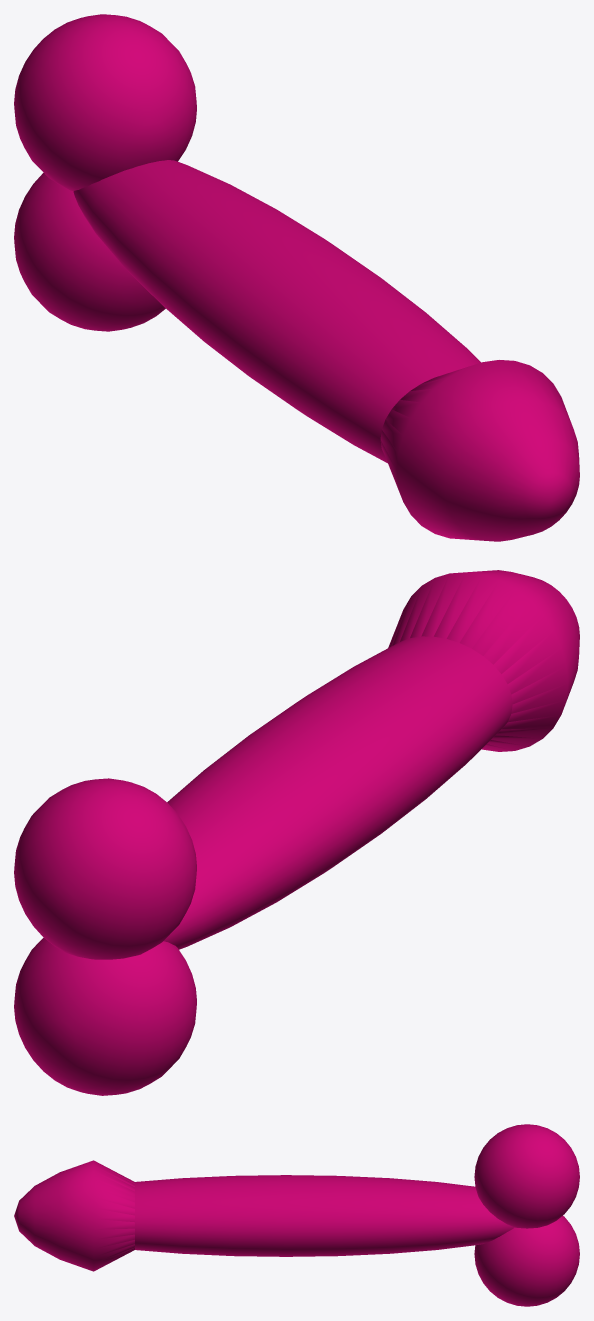
3 renders of one model, top to bottom at view 1: azimuth 30°, elevation 25°; view 2: azimuth 150°, elevation 25°; view 3: azimuth 270°, elevation 25°, orthographic. The views are drawn at different scales.
Size of the model in its own units: 2.15 by 3.61 by 10.72.
